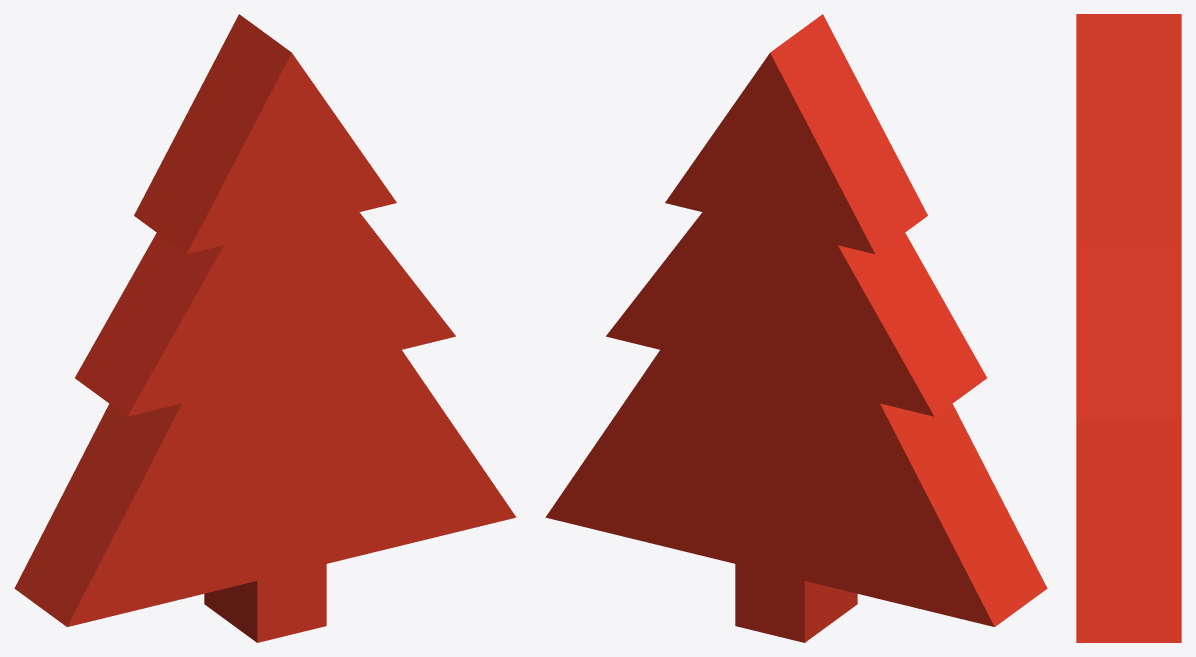
Rendered from Icon_Tree_02.fbx.
3 renders of one model, left to right at view 1: azimuth 30°, elevation 25°; view 2: azimuth 150°, elevation 25°; view 3: azimuth 270°, elevation 25°, orthographic.
Visible parts, largest first — view 1: Icon_Tree_02; view 2: Icon_Tree_02; view 3: Icon_Tree_02.
Boxes of the visible parts, x1,y1,x2,y2 form: Icon_Tree_02: [14, 14, 516, 642]; Icon_Tree_02: [545, 14, 1047, 642]; Icon_Tree_02: [1076, 14, 1181, 642].
Bounding box in the file's own units: 59.29 × 73.36 × 12.06.
